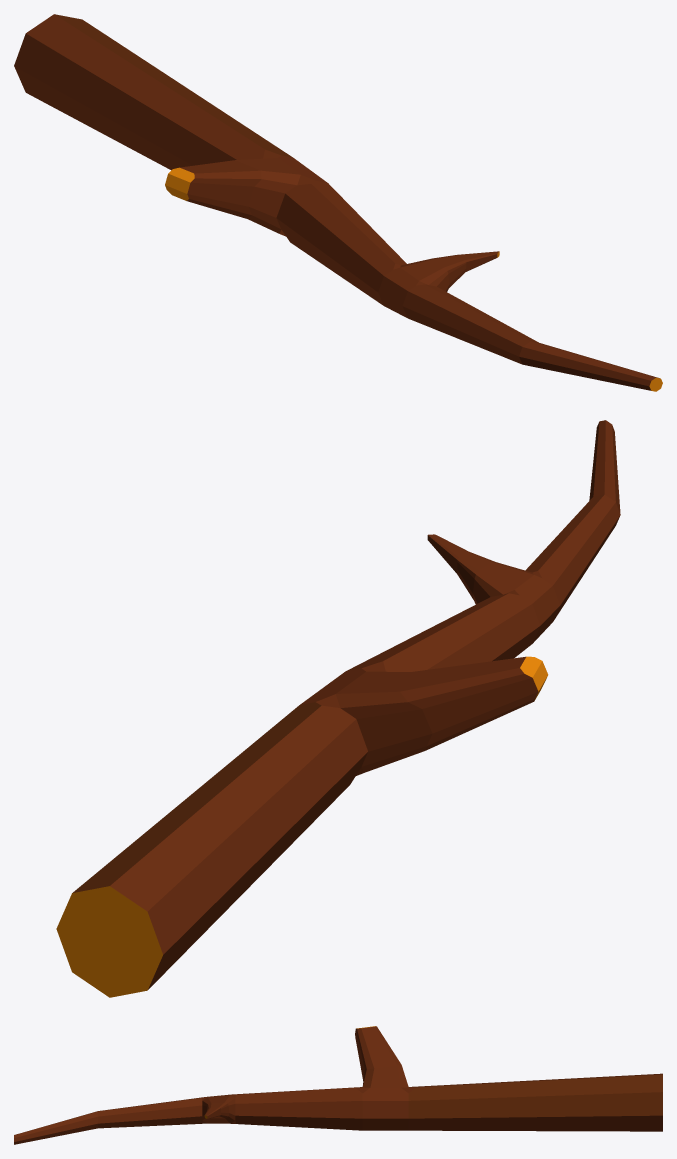
File: Stick_55.fbx
The picture shows the model from 3 angles, top to bottom: view 1: azimuth 30°, elevation 25°; view 2: azimuth 150°, elevation 25°; view 3: azimuth 270°, elevation 25°; orthographic projection. The views are drawn at different scales.
Parts seen in each view (by area): view 1: Circle.413; view 2: Circle.413; view 3: Circle.413.
Boxes of the visible parts, bbox=[...] form: Circle.413: bbox=[14, 14, 662, 391]; Circle.413: bbox=[56, 420, 620, 997]; Circle.413: bbox=[14, 1026, 662, 1144].
Size of the model in its own units: 9.65 by 4.52 by 35.85.
